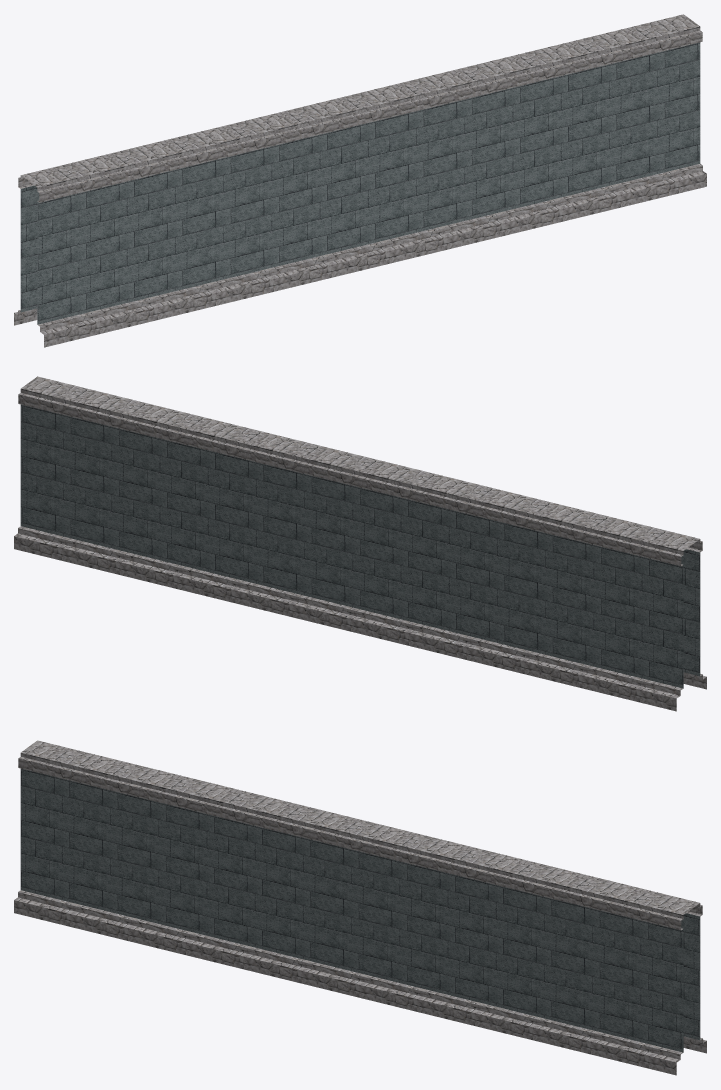
The picture shows the model from 3 angles, top to bottom: view 1: azimuth 30°, elevation 25°; view 2: azimuth 150°, elevation 25°; view 3: azimuth 330°, elevation 25°; orthographic projection.
Visible parts, largest first — view 1: wold; view 2: wold; view 3: wold.
Part boxes in pixels (box(x1,y1,x2,y2)): wold: box(14, 14, 706, 347); wold: box(14, 376, 706, 711); wold: box(14, 740, 706, 1075).
Size of the model in its own units: 1122 by 251 by 90.39.
